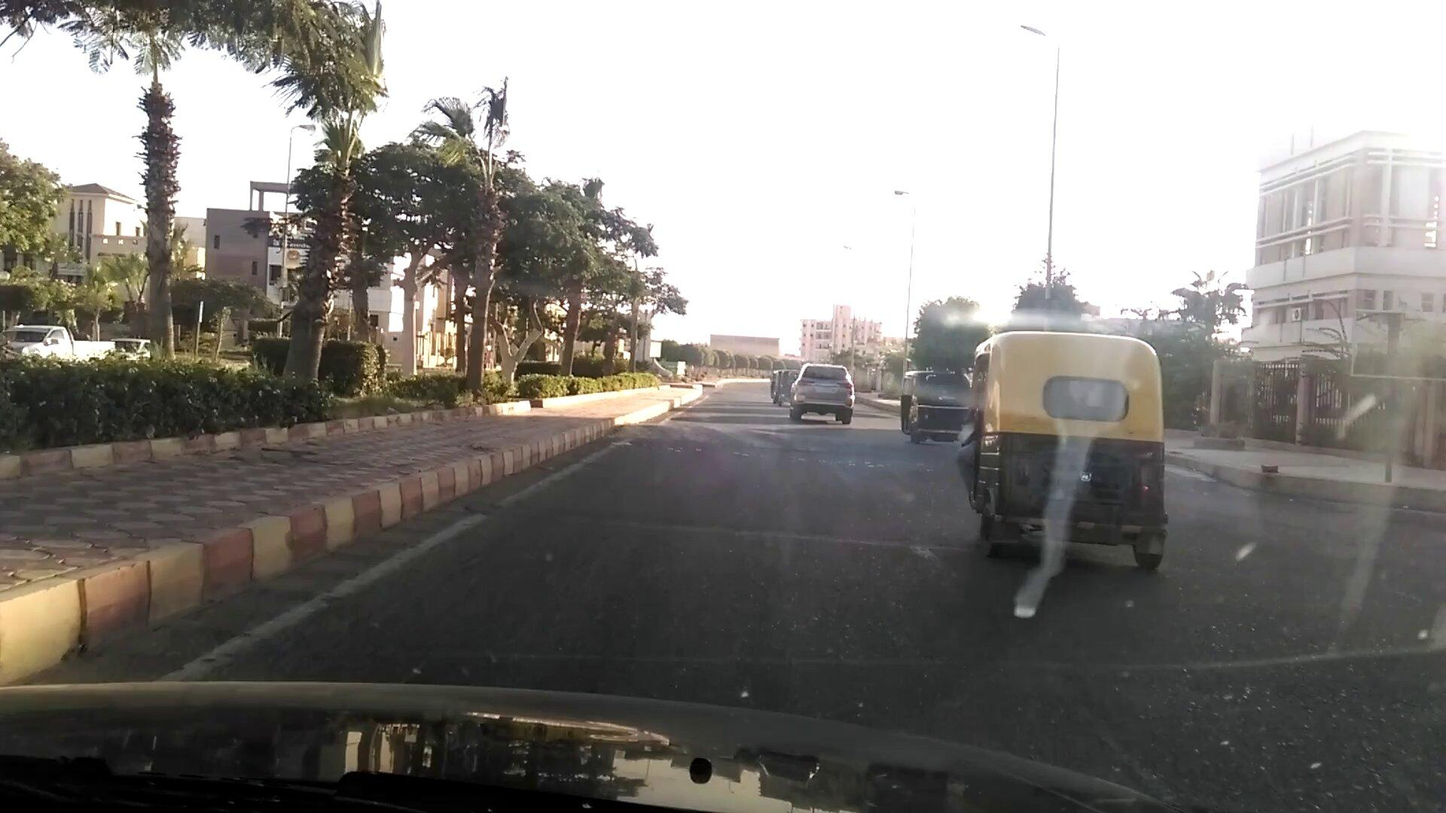Bump: (604, 422, 956, 468)
